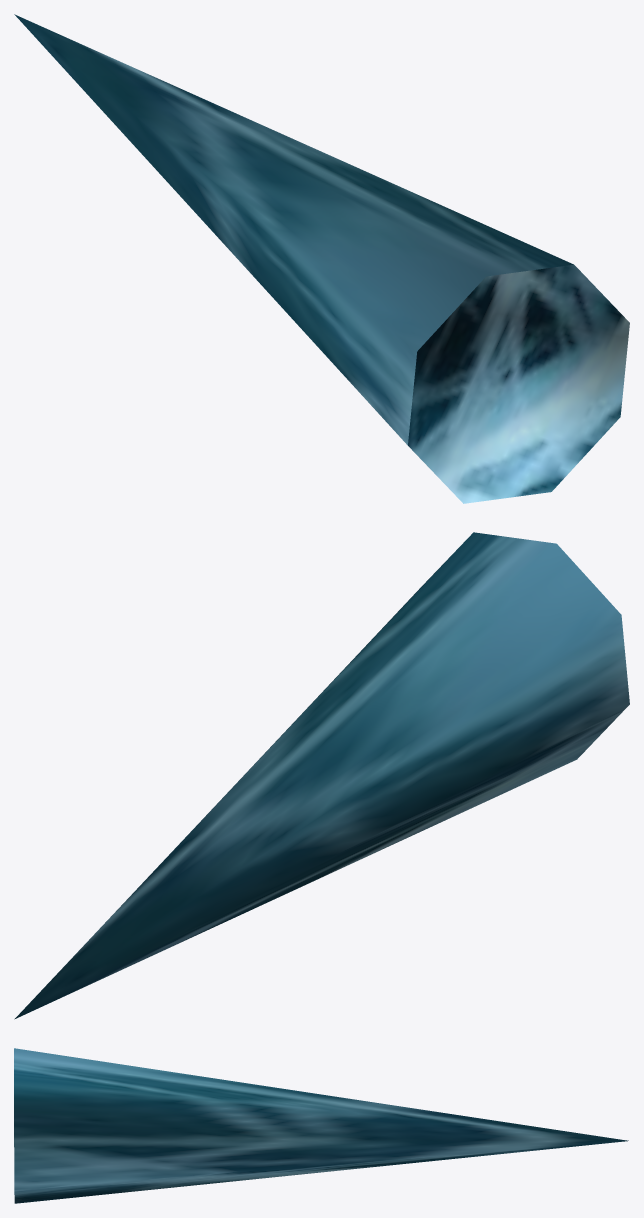
Rendered from iceonfloor1.glb.
3 renders of one model, top to bottom at view 1: azimuth 30°, elevation 25°; view 2: azimuth 150°, elevation 25°; view 3: azimuth 270°, elevation 25°, orthographic. The views are drawn at different scales.
Visible parts, largest first — view 1: ICEballRACK.005; view 2: ICEballRACK.005; view 3: ICEballRACK.005.
Boxes of the visible parts, box(x1,y1,x2,y2) form: ICEballRACK.005: box(14, 14, 629, 503); ICEballRACK.005: box(14, 532, 629, 1019); ICEballRACK.005: box(14, 1048, 628, 1203).
Bounding box in the file's own units: 0.2704 × 0.2704 × 1.1.
Materials: 1 (1 with a texture image).
